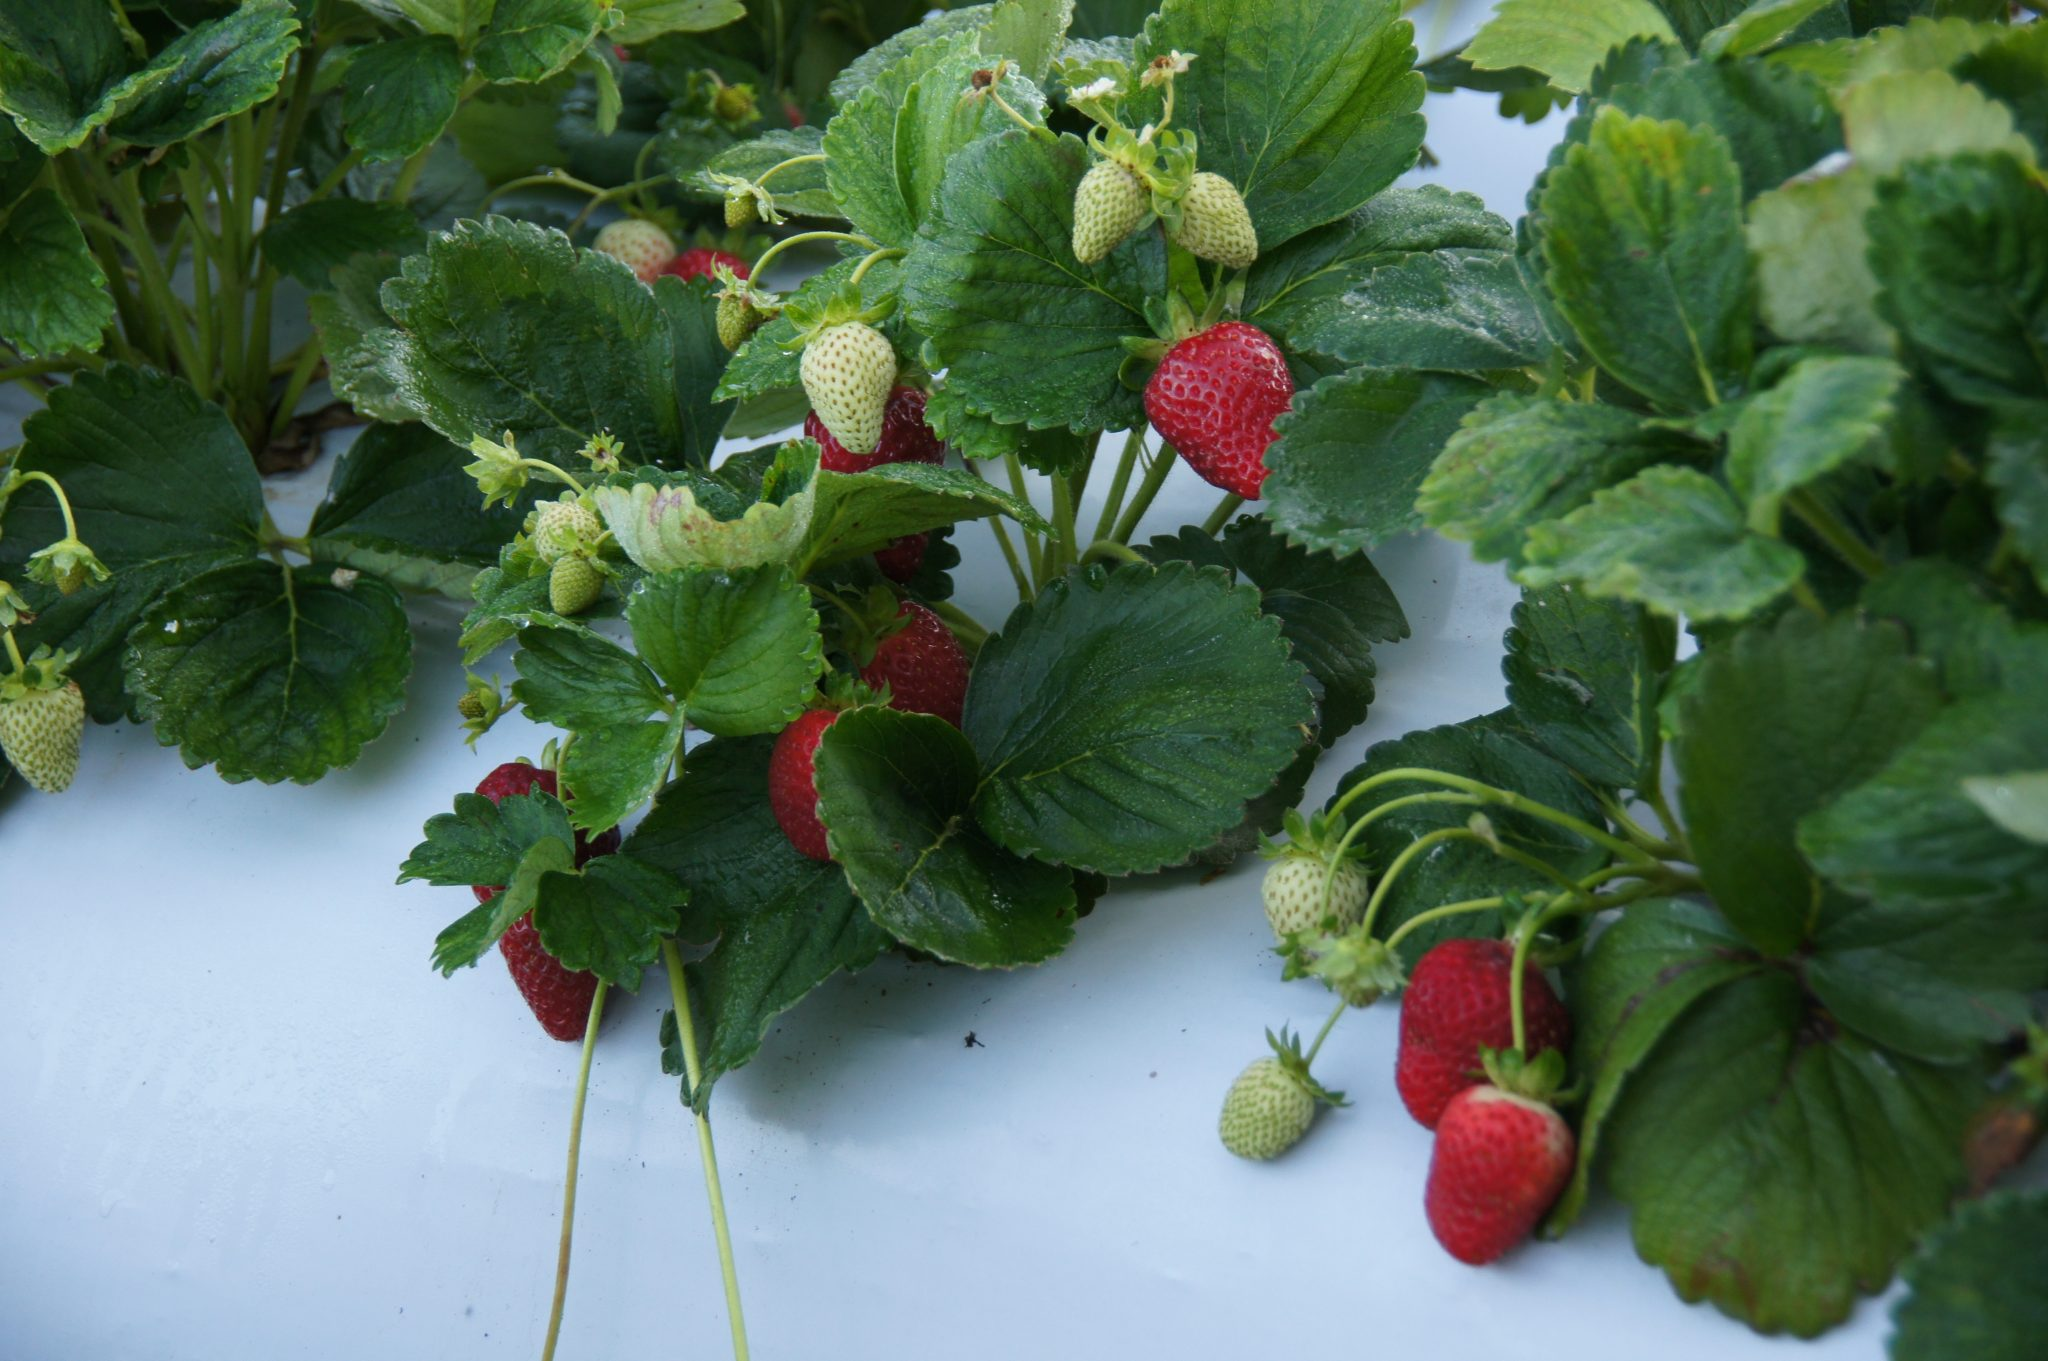ripe_strawberry: (1391, 933, 1568, 1133), (1142, 316, 1303, 503), (1419, 1085, 1579, 1270), (800, 381, 941, 580), (465, 756, 629, 911), (840, 600, 975, 728), (503, 907, 618, 1045), (764, 709, 853, 867), (660, 248, 751, 286)
unripe_strawberry: (796, 313, 902, 460), (1260, 832, 1372, 958), (1215, 1051, 1321, 1167), (2, 674, 90, 797), (1070, 149, 1158, 270), (1166, 170, 1263, 276), (588, 219, 679, 290), (530, 500, 604, 559), (712, 276, 767, 355), (548, 550, 609, 620), (723, 179, 767, 232)
